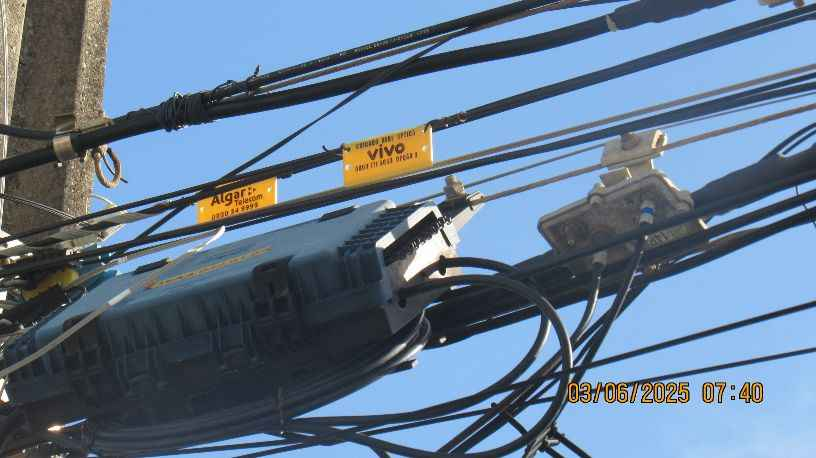caixa_derivacao: (0, 183, 473, 441)
coaxial: (482, 80, 811, 355)
fibra_optica: (336, 122, 446, 185), (196, 168, 289, 220)
